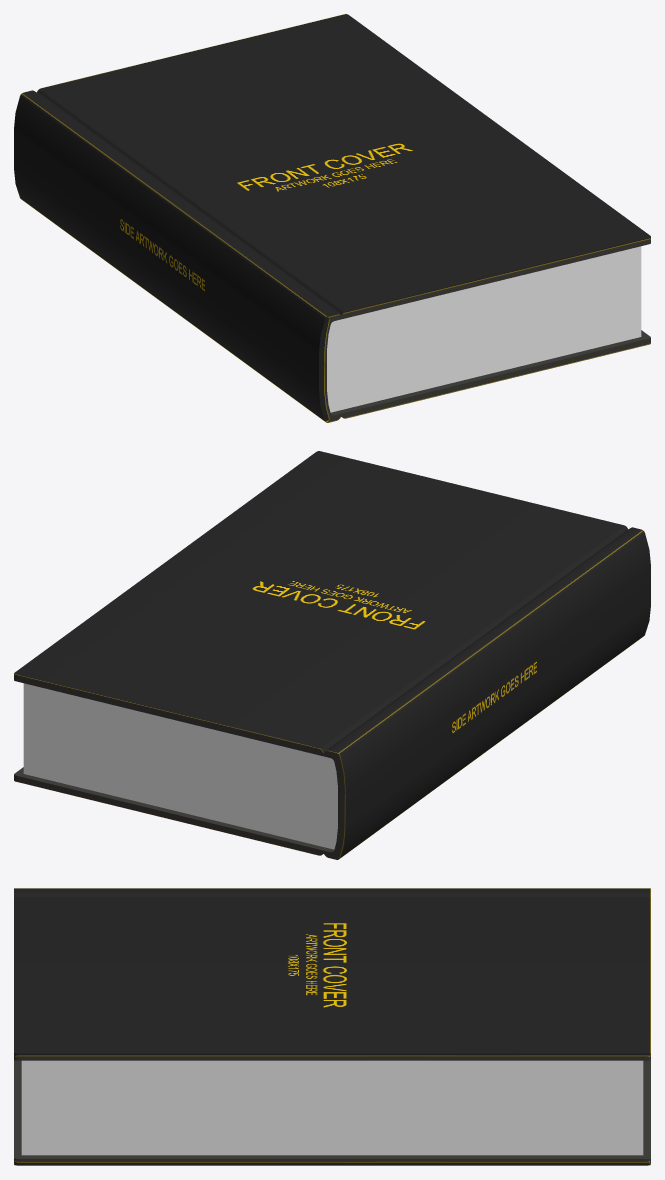
File: BookXS.glb
3 renders of one model, top to bottom at view 1: azimuth 30°, elevation 25°; view 2: azimuth 150°, elevation 25°; view 3: azimuth 270°, elevation 25°, orthographic. The views are drawn at different scales.
Visible parts, largest first — view 1: Book_108x175; view 2: Book_108x175; view 3: Book_108x175.
Part boxes in pixels (left/top/right/bottom): Book_108x175: left=14, top=14, right=650, bottom=422; Book_108x175: left=14, top=451, right=650, bottom=859; Book_108x175: left=14, top=888, right=650, bottom=1165.
Size of the model in its own units: 0.113 by 0.0347 by 0.1793.
2 materials, 1 textured.
